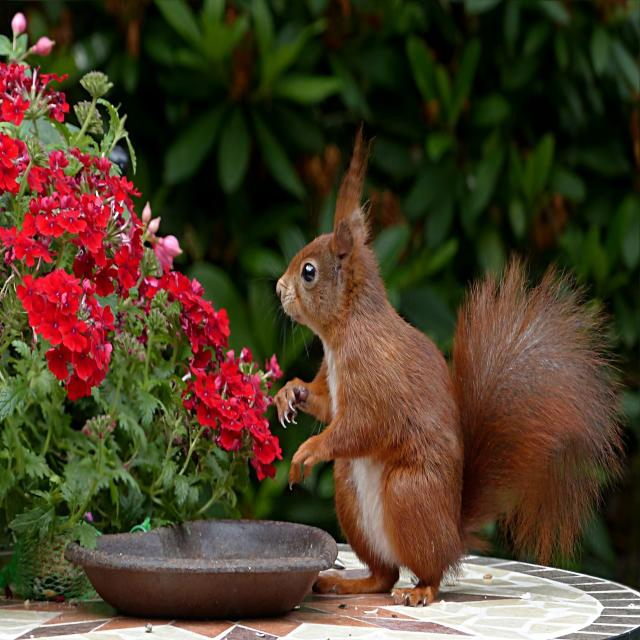animal: (274, 122, 622, 604)
